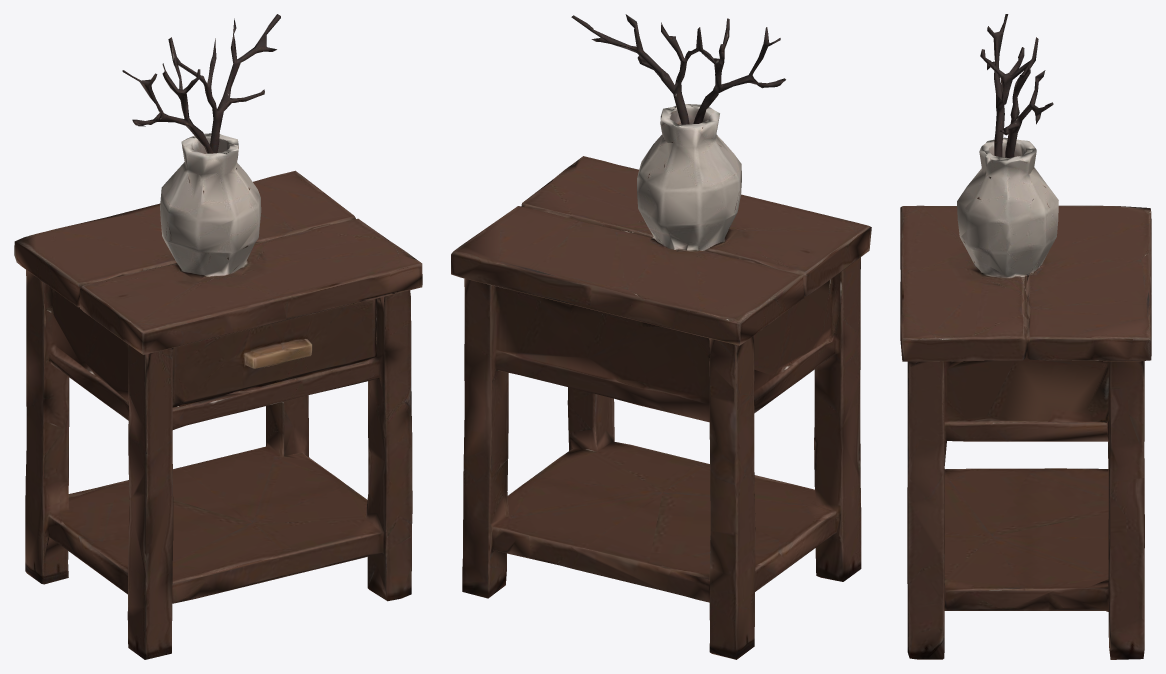
The model's file is sideTableHQ.glb.
3 renders of one model, left to right at view 1: azimuth 30°, elevation 25°; view 2: azimuth 150°, elevation 25°; view 3: azimuth 270°, elevation 25°, orthographic. The views are drawn at different scales.
Size of the model in its own units: 1.01 by 1.9 by 0.8015.
1 material, 1 textured.
